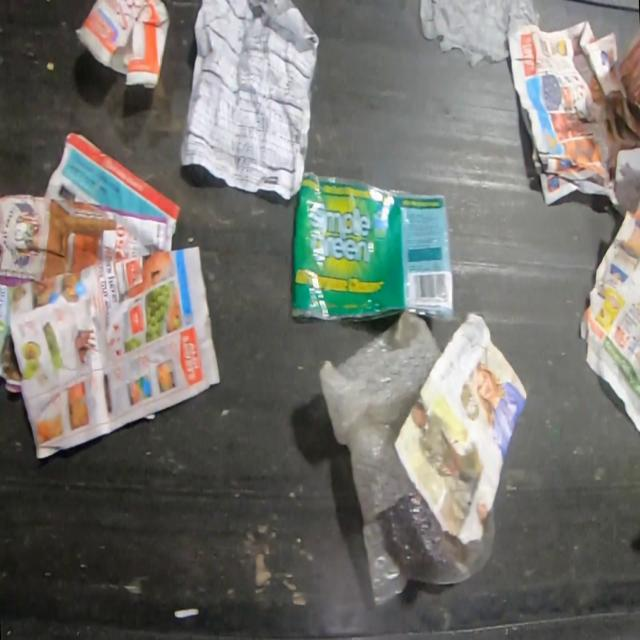rigid_plastic: (73, 0, 171, 89)
soft_plastic: (318, 313, 496, 607), (290, 169, 464, 323)
